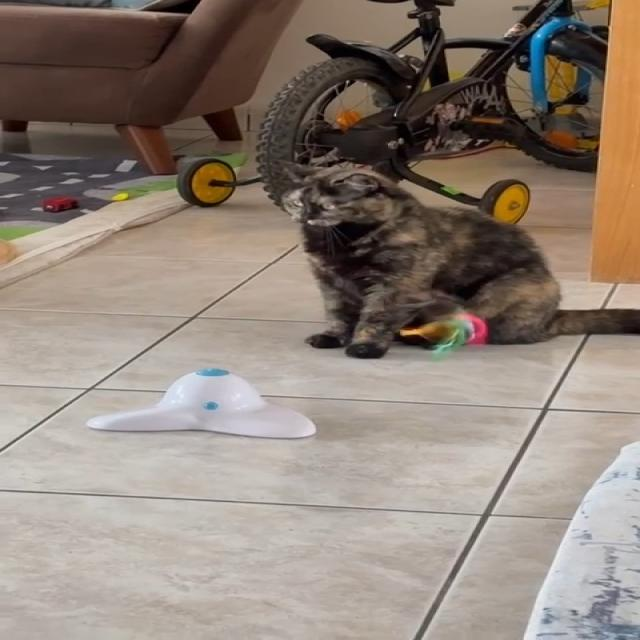authorized: (271, 159, 638, 359)
